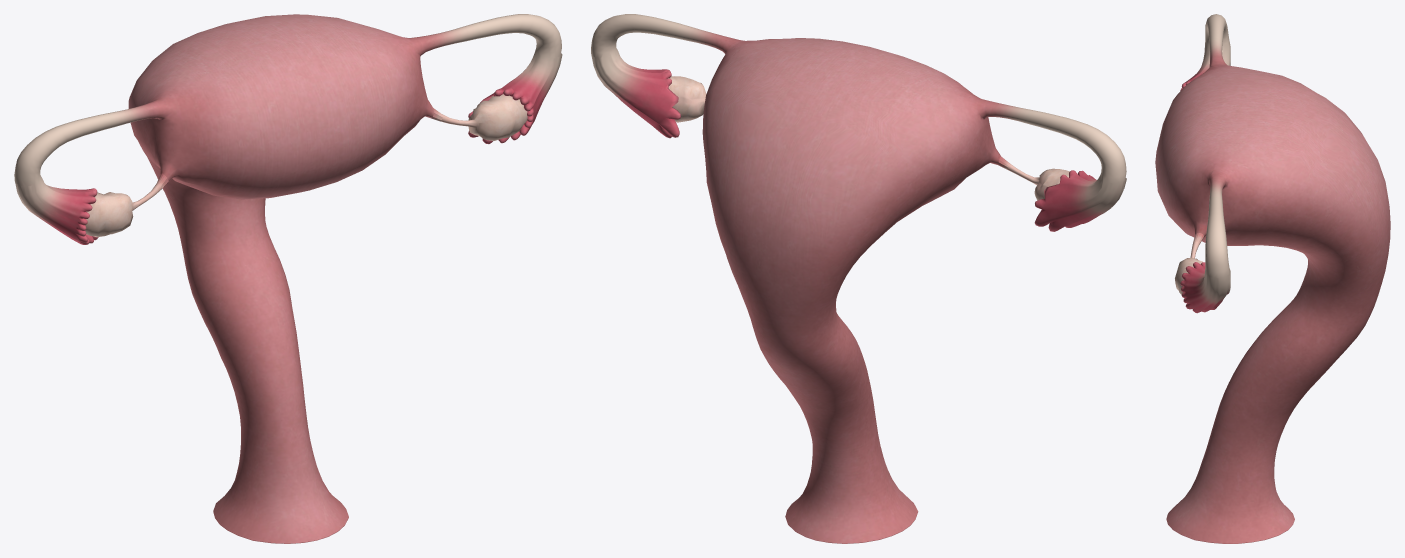
3 views of the same model, side by side, from view 1: azimuth 30°, elevation 25°; view 2: azimuth 150°, elevation 25°; view 3: azimuth 270°, elevation 25° (orthographic). The views are drawn at different scales.
Parts seen in each view (by area): view 1: polySurface1; view 2: polySurface1; view 3: polySurface1.
Part boxes in pixels (x1,y1,x2,y2): polySurface1: (14, 14, 562, 543); polySurface1: (591, 14, 1126, 543); polySurface1: (1155, 14, 1390, 543).
Size of the model in its own units: 14 by 11.66 by 5.87.
1 material, 1 textured.
